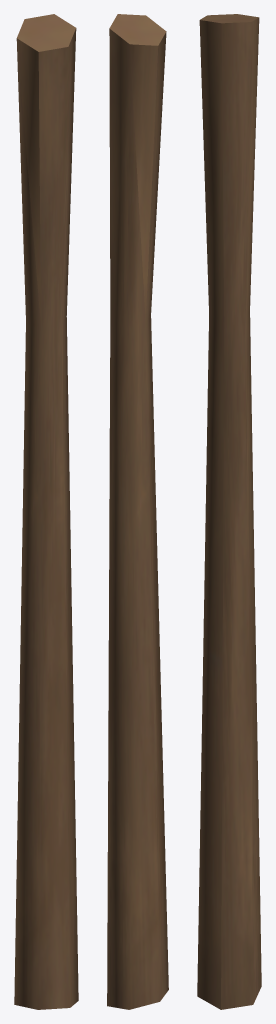
Rendered from A_HA_GEN_Mast_Beam_01.fbx.
The picture shows the model from 3 angles, left to right: view 1: azimuth 90°, elevation 25°; view 2: azimuth 150°, elevation 25°; view 3: azimuth 270°, elevation 25°; orthographic projection.
Parts seen in each view (by area): view 1: A_HA_Gen_Ship_Mast_Beam_01; view 2: A_HA_Gen_Ship_Mast_Beam_01; view 3: A_HA_Gen_Ship_Mast_Beam_01.
Part boxes in pixels (x1,y1,x2,y2): A_HA_Gen_Ship_Mast_Beam_01: (14, 14, 78, 1009); A_HA_Gen_Ship_Mast_Beam_01: (107, 14, 168, 1009); A_HA_Gen_Ship_Mast_Beam_01: (197, 14, 261, 1009).
Size of the model in its own units: 77.13 by 1377 by 81.64.
Materials: 1 (1 with a texture image).
